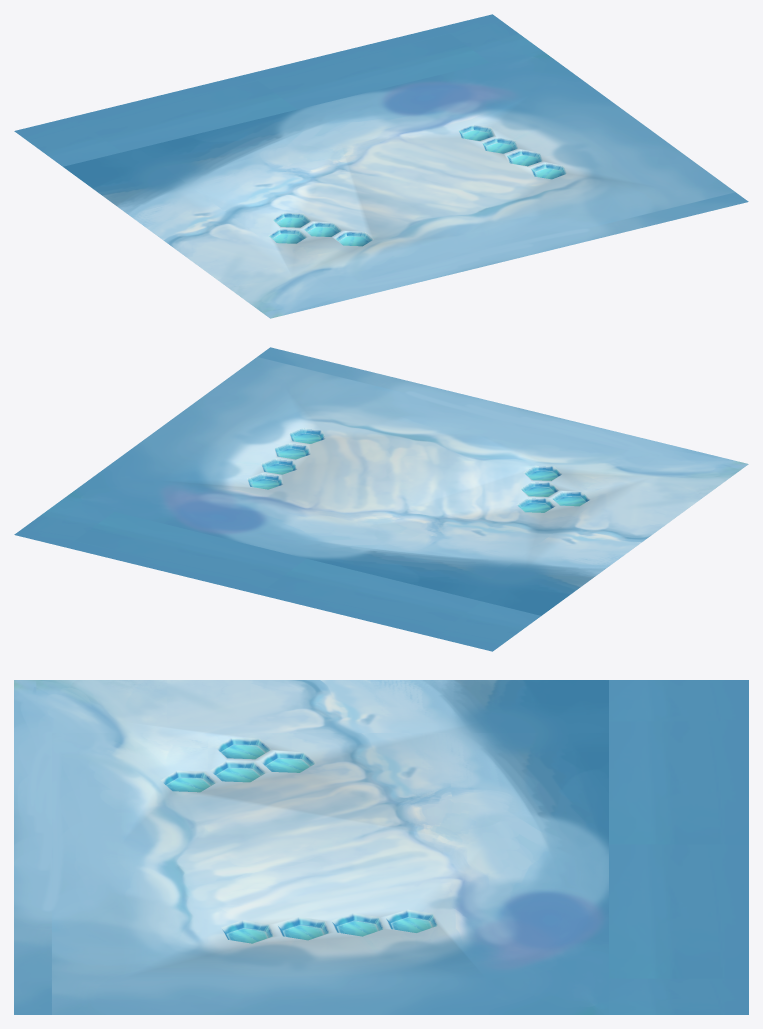
Rendered from Ice_land_01.fbx.
3 renders of one model, top to bottom at view 1: azimuth 30°, elevation 25°; view 2: azimuth 150°, elevation 25°; view 3: azimuth 270°, elevation 25°, orthographic. The views are drawn at different scales.
Parts seen in each view (by area): view 1: Ice_land_01; view 2: Ice_land_01; view 3: Ice_land_01.
Boxes of the visible parts, x1,y1,x2,y2 form: Ice_land_01: [14, 14, 748, 318]; Ice_land_01: [14, 347, 748, 651]; Ice_land_01: [14, 680, 748, 1014].
Size of the model in its own units: 2001 by 14 by 1856.
